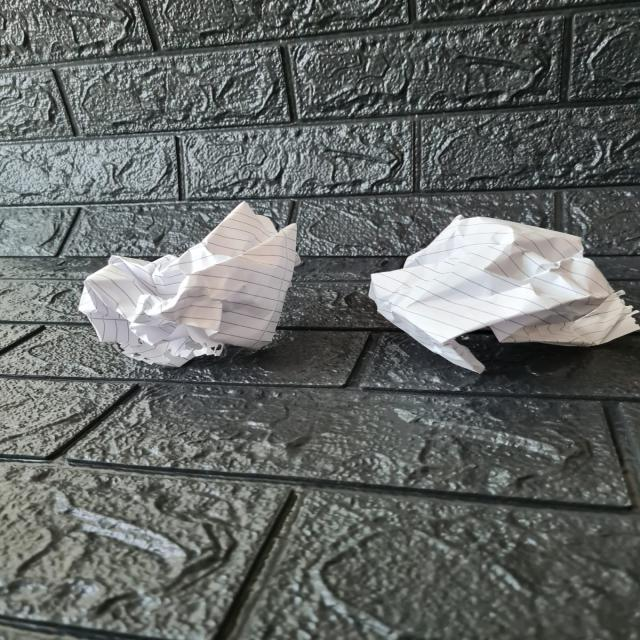Paper: (374, 219, 636, 375), (78, 201, 301, 372)
